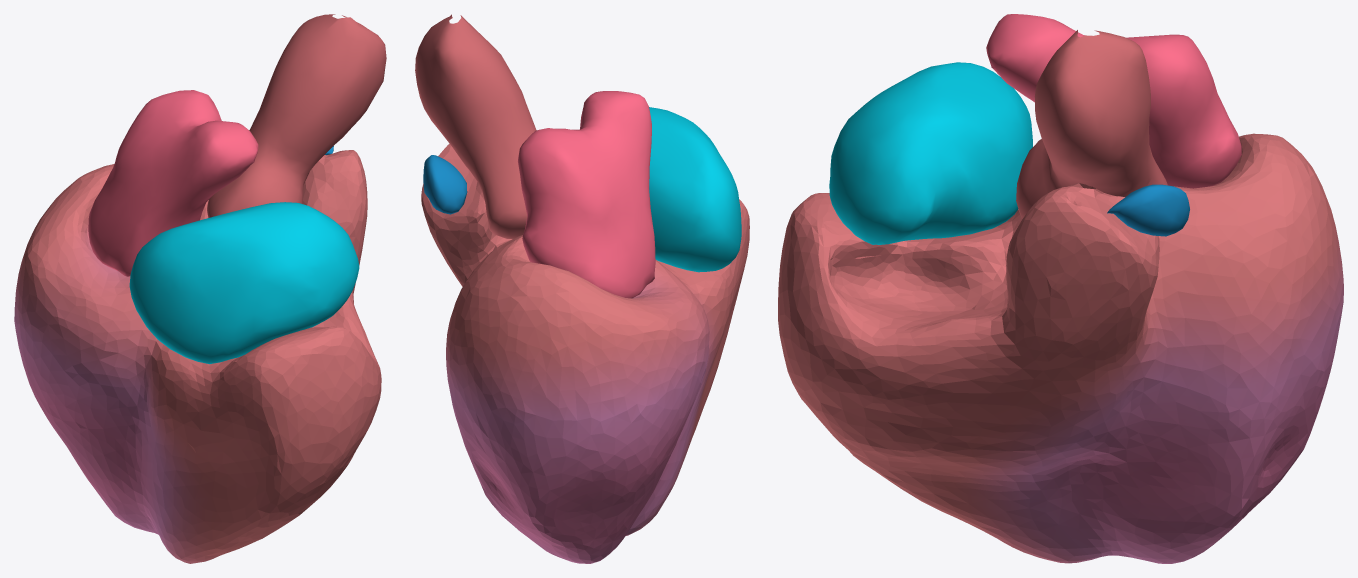
File: frame_58.glb
The picture shows the model from 3 angles, left to right: view 1: azimuth 30°, elevation 25°; view 2: azimuth 150°, elevation 25°; view 3: azimuth 270°, elevation 25°; orthographic projection. The views are drawn at different scales.
Visible parts, largest first — view 1: Renderer Node; view 2: Renderer Node; view 3: Renderer Node.
Boxes of the visible parts, bbox=[...] form: Renderer Node: bbox=[14, 14, 386, 563]; Renderer Node: bbox=[415, 14, 749, 563]; Renderer Node: bbox=[778, 14, 1343, 563].
Size of the model in its own units: 103 by 157 by 128.
